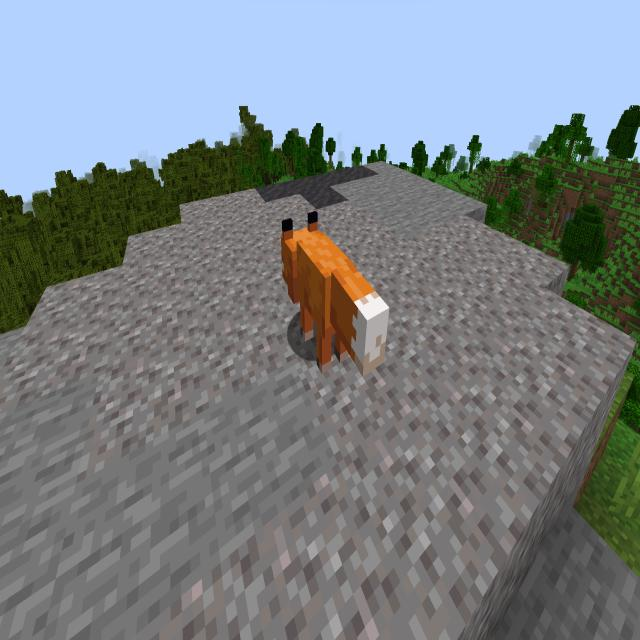Fox: (271, 203, 395, 409)
